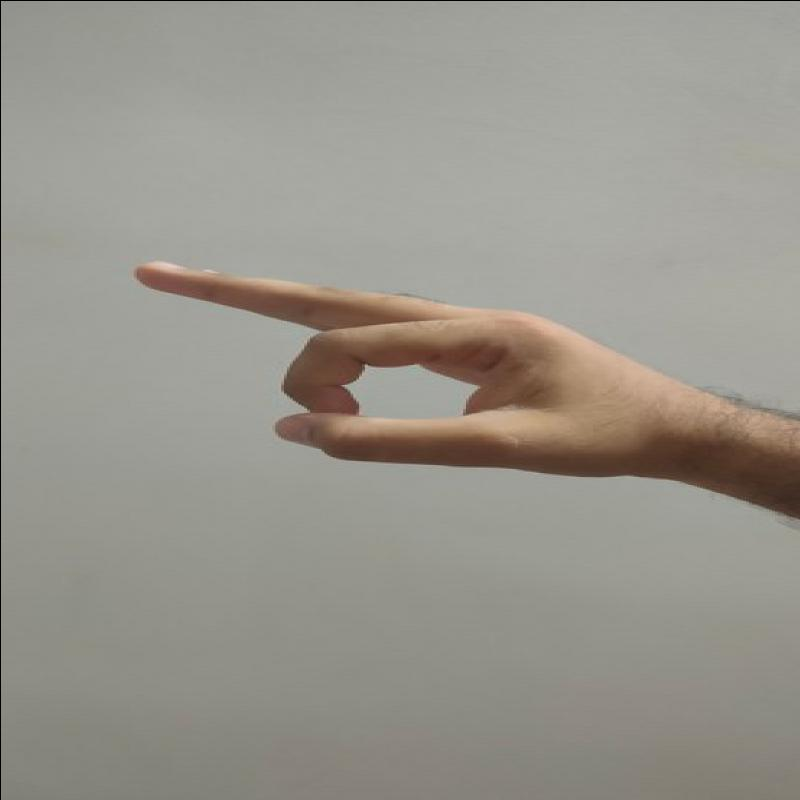Mudraakhyam: (129, 240, 680, 487)
